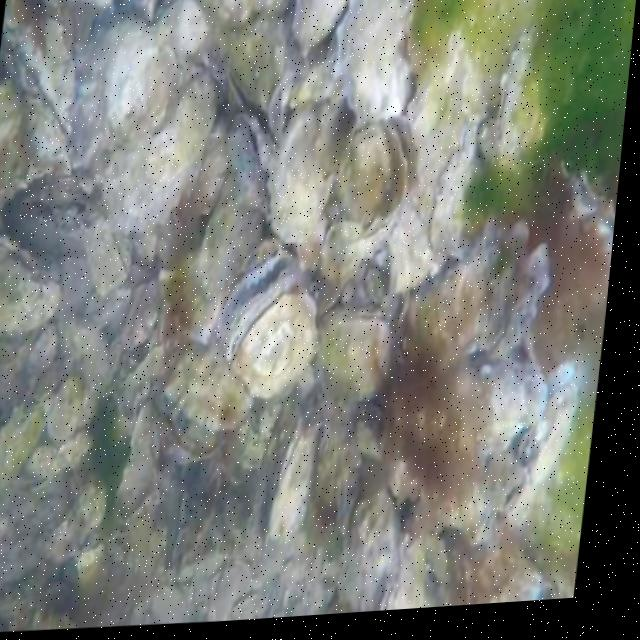Oyster-Closed: (0, 30, 69, 213), (335, 0, 413, 122), (0, 237, 60, 341), (561, 160, 616, 273), (227, 117, 276, 214), (224, 71, 256, 115), (270, 74, 289, 141)
Oyster-Indeterminate: (72, 0, 207, 176), (410, 226, 549, 363), (107, 73, 218, 232), (268, 102, 336, 242), (319, 303, 394, 418), (495, 26, 556, 164), (200, 174, 262, 292), (160, 246, 229, 339), (0, 396, 52, 486), (85, 225, 132, 296), (292, 0, 347, 46), (48, 376, 82, 443), (125, 283, 156, 346), (26, 325, 57, 372), (33, 365, 56, 403), (0, 344, 17, 365)
Oyster-Open: (216, 252, 317, 398), (167, 330, 250, 455), (329, 116, 423, 224), (16, 450, 55, 494)
